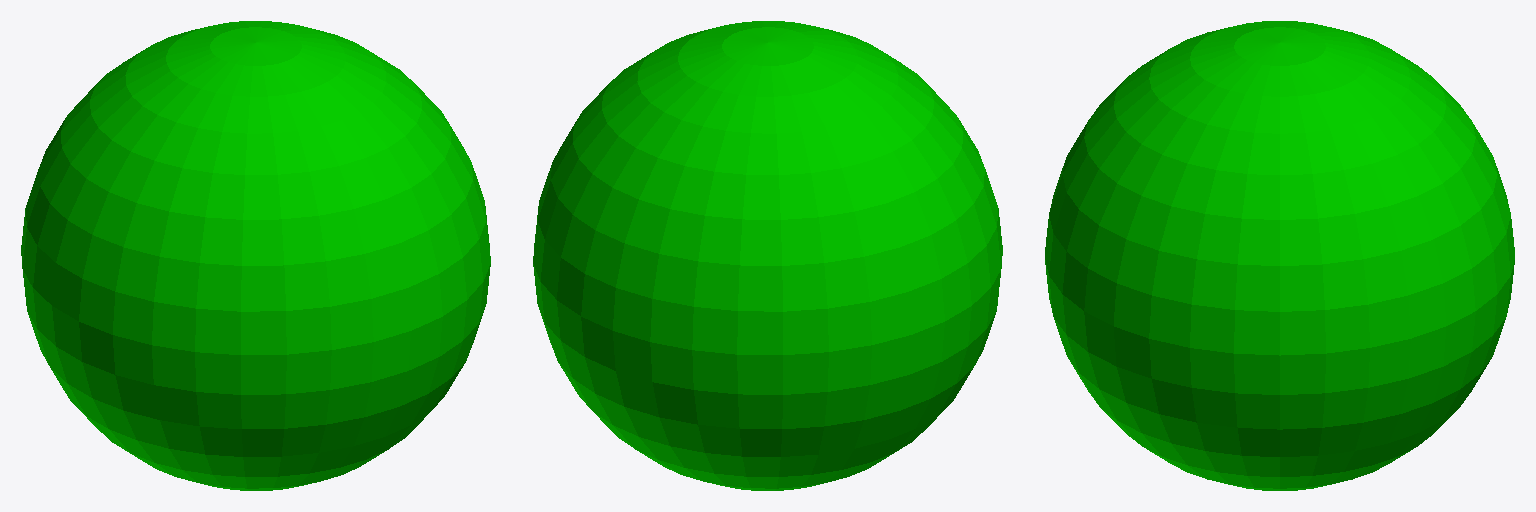
The model's file is sphereobj.obj.
3 renders of one model, left to right at view 1: azimuth 30°, elevation 25°; view 2: azimuth 150°, elevation 25°; view 3: azimuth 270°, elevation 25°, orthographic.
Parts seen in each view (by area): view 1: Sphere; view 2: Sphere; view 3: Sphere.
Part boxes in pixels (bbox=[...]): Sphere: bbox=[21, 21, 490, 490]; Sphere: bbox=[533, 21, 1002, 490]; Sphere: bbox=[1045, 21, 1514, 490].
Bounding box in the file's own units: 2.49 × 2.49 × 2.49.